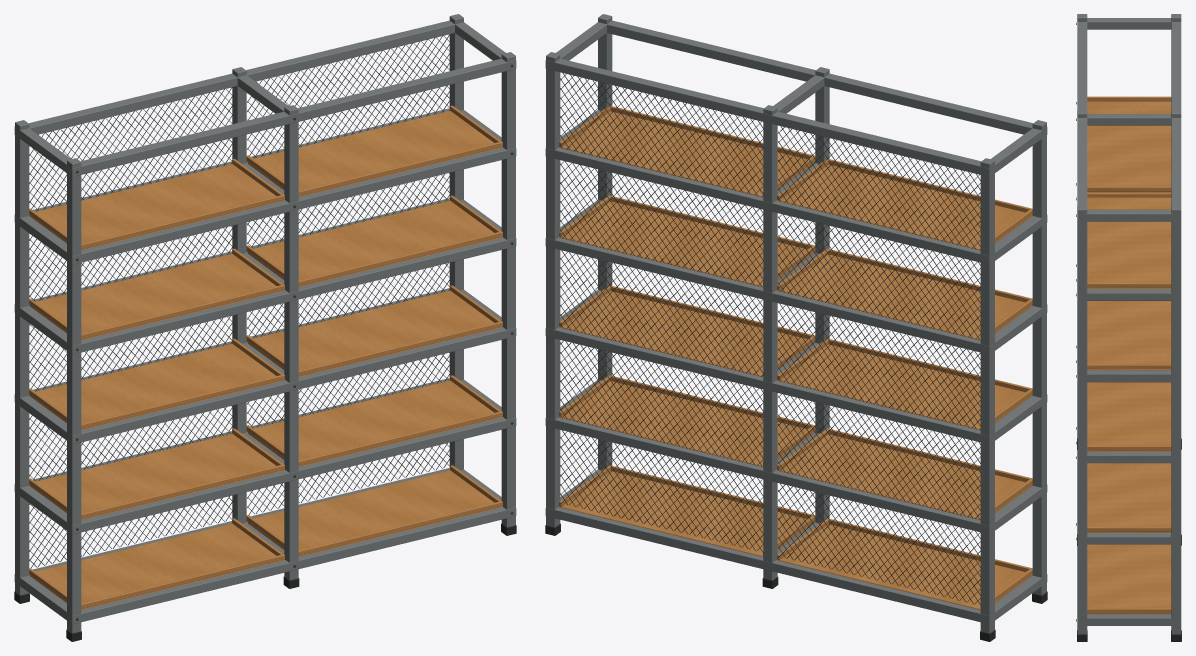
The model's file is cabinet-empty.glb.
3 renders of one model, left to right at view 1: azimuth 30°, elevation 25°; view 2: azimuth 150°, elevation 25°; view 3: azimuth 270°, elevation 25°, orthographic. The views are drawn at different scales.
Parts seen in each view (by area): view 1: Diamond steel backing, Diamond steel backing.001, Shelf_2_bay_2, Shelf_4_bay_2, Shelf_5_bay_2, Shelf_3_bay_2, Shelf_1_bay_2, Shelf_5_bay_1, Shelf_2_bay_1, Shelf_4_bay_1, Shelf_3_bay_1, Shelf_1_bay_1 (+36 smaller); view 2: Diamond steel backing.001, Diamond steel backing, Shelf_1_bay_2, Shelf_3_bay_2, Shelf_2_bay_2, Shelf_5_bay_2, Shelf_4_bay_2, Shelf_1_bay_1, Shelf_5_bay_1, Shelf_2_bay_1, Shelf_3_bay_1, Shelf_4_bay_1 (+31 smaller); view 3: Shelf_5_bay_1, Shelf_5_bay_2, Shelf_1_bay_2, Shelf_3_bay_2, Shelf_2_bay_2, Shelf_4_bay_2, Frame_post_1.0375_0.215, Frame_post_1.0375_-0.215, Crossbeam_2.165_0.215, Crossbeam_2.165_-0.215, Side tie.011, Side tie.008 (+14 smaller).
Part boxes in pixels (x1,y1,x2,y2): Diamond steel backing: (29, 87, 233, 567); Diamond steel backing.001: (247, 34, 451, 514); Shelf_2_bay_2: (246, 380, 502, 466); Shelf_4_bay_2: (246, 200, 502, 287); Shelf_5_bay_2: (246, 111, 502, 197); Shelf_3_bay_2: (246, 290, 502, 376); Shelf_1_bay_2: (247, 470, 502, 556); Shelf_5_bay_1: (29, 164, 284, 250); Shelf_2_bay_1: (29, 433, 284, 519); Shelf_4_bay_1: (29, 254, 284, 340); Shelf_3_bay_1: (29, 343, 284, 430); Shelf_1_bay_1: (29, 523, 284, 609); Diamond steel backing.001: (560, 73, 763, 552); Diamond steel backing: (778, 126, 980, 604); Shelf_1_bay_2: (559, 471, 814, 556); Shelf_3_bay_2: (559, 291, 814, 376); Shelf_2_bay_2: (559, 381, 815, 466); Shelf_5_bay_2: (559, 111, 815, 197); Shelf_4_bay_2: (559, 201, 815, 287); Shelf_1_bay_1: (777, 524, 1032, 609); Shelf_5_bay_1: (777, 164, 1032, 250); Shelf_2_bay_1: (777, 434, 1032, 519); Shelf_3_bay_1: (777, 344, 1032, 430); Shelf_4_bay_1: (777, 254, 1032, 339); Shelf_5_bay_1: (1087, 101, 1171, 192); Shelf_5_bay_2: (1087, 197, 1171, 288); Shelf_1_bay_2: (1087, 544, 1171, 614); Shelf_3_bay_2: (1087, 382, 1171, 451); Shelf_2_bay_2: (1087, 463, 1171, 532); Shelf_4_bay_2: (1087, 301, 1171, 370); Frame_post_1.0375_0.215: (1171, 206, 1181, 634); Frame_post_1.0375_-0.215: (1077, 206, 1087, 634); Crossbeam_2.165_0.215: (1171, 22, 1181, 221); Crossbeam_2.165_-0.215: (1077, 22, 1087, 221); Side tie.011: (1079, 370, 1179, 382); Side tie.008: (1079, 451, 1179, 463).
Bounding box in the file's own units: 2.13 × 2.18 × 0.4835.
4 materials, 1 textured.
